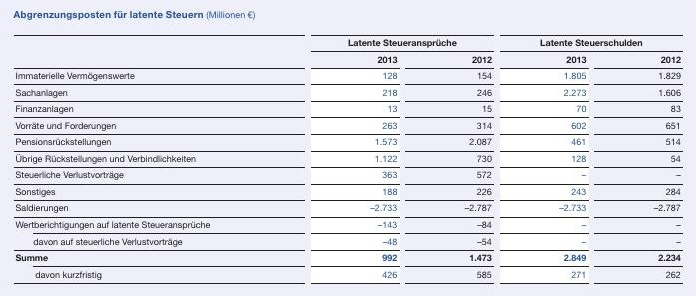table: (0, 0, 696, 296)
